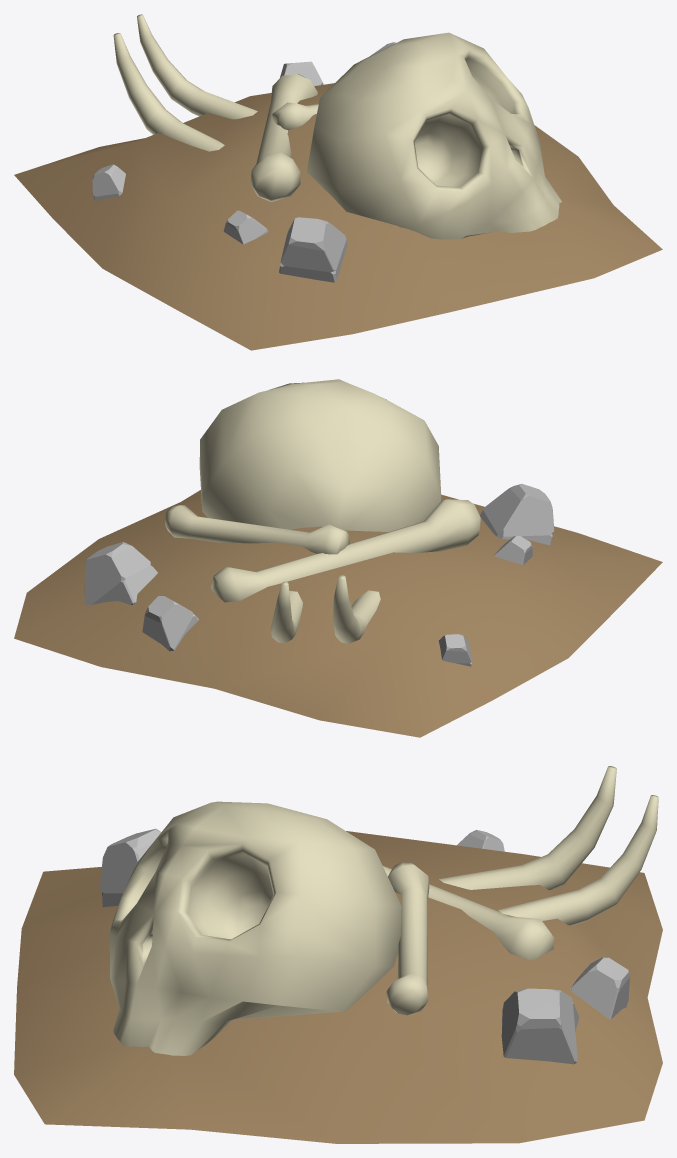
File: BonesBox_2.fbx
3 views of the same model, one above another, from view 1: azimuth 30°, elevation 25°; view 2: azimuth 150°, elevation 25°; view 3: azimuth 270°, elevation 25° (orthographic). The views are drawn at different scales.
Visible parts, largest first — view 1: bones.001; view 2: bones.001; view 3: bones.001.
Part boxes in pixels (x1=…): bones.001: x1=14, y1=14, x2=662, y2=350; bones.001: x1=14, y1=379, x2=662, y2=737; bones.001: x1=14, y1=766, x2=662, y2=1143.
Bounding box in the file's own units: 428 × 152 × 406.
